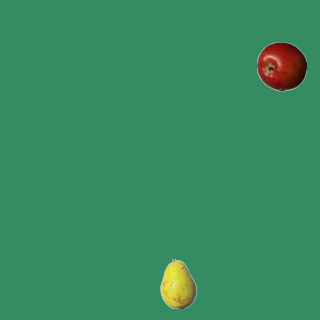Apple Braeburn: (256, 41, 306, 91)
Pear Monster: (153, 258, 203, 308)
